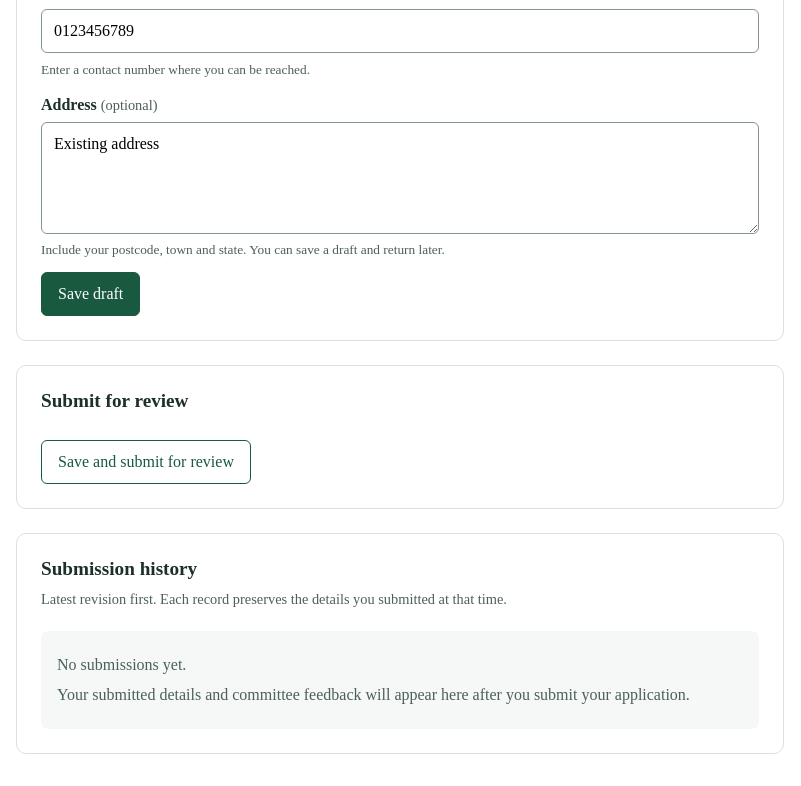
application submission › keeps the form locked when submission succeeds but history reload fails
The image size is (801, 786).
(page scrolled)
Click the button "Save and submit for review". click: (146, 462)
box: [41, 440, 251, 484]
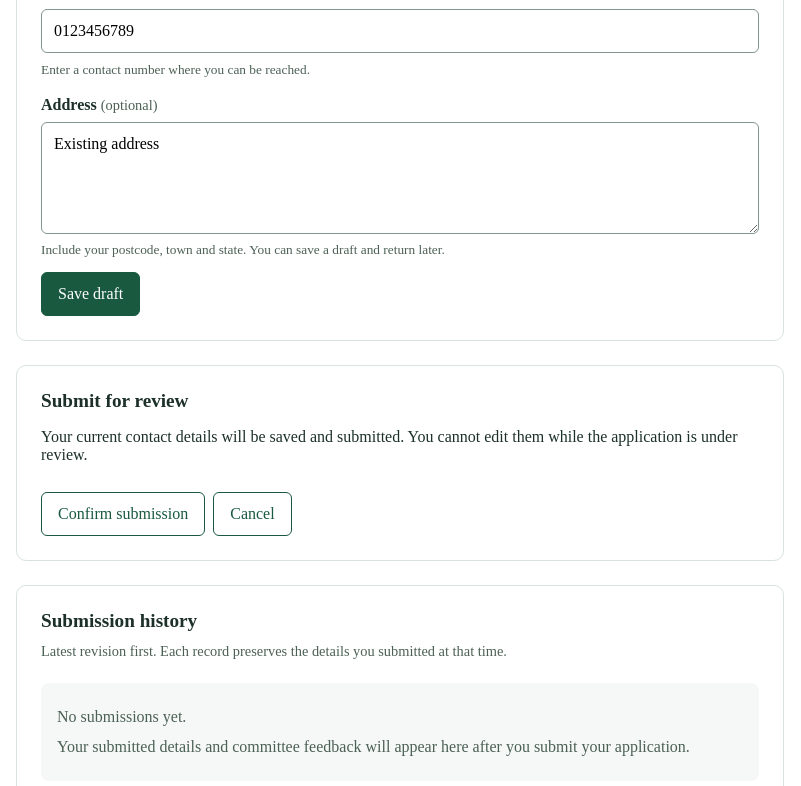
Click the button "Confirm submission". click: (123, 514)
box: [41, 492, 205, 536]
(page scrolled)
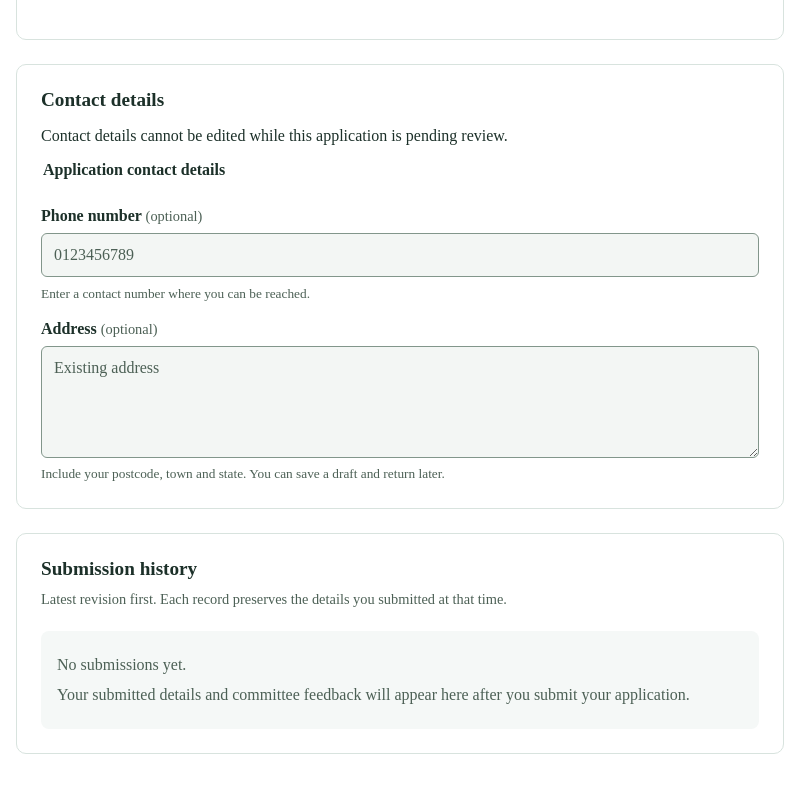
Now the element that starts with "Application contact details" is disabled, box [41, 161, 759, 484]
